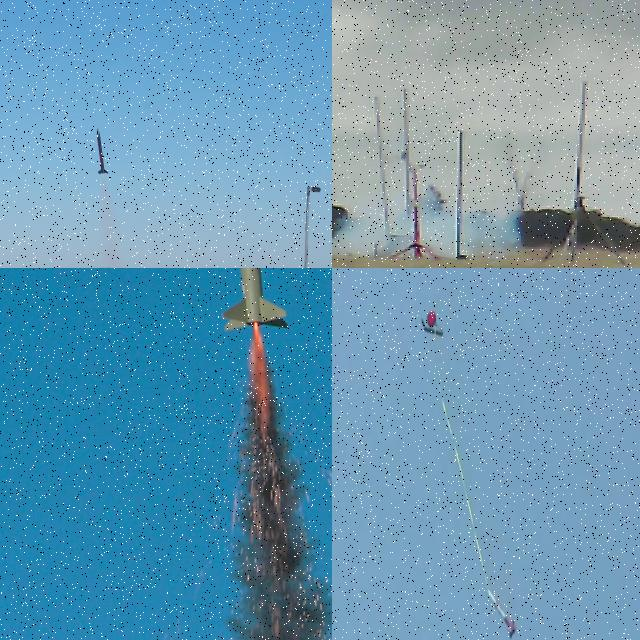Rocket: (220, 268, 292, 333), (485, 583, 517, 638), (96, 128, 109, 174)
